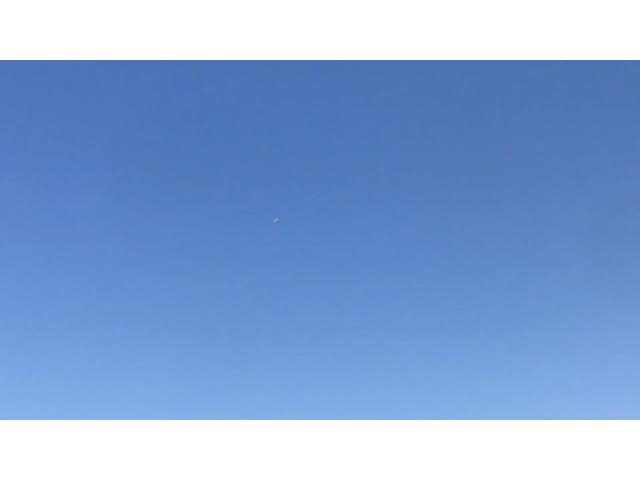Anti-Drone: (265, 202, 285, 227)
